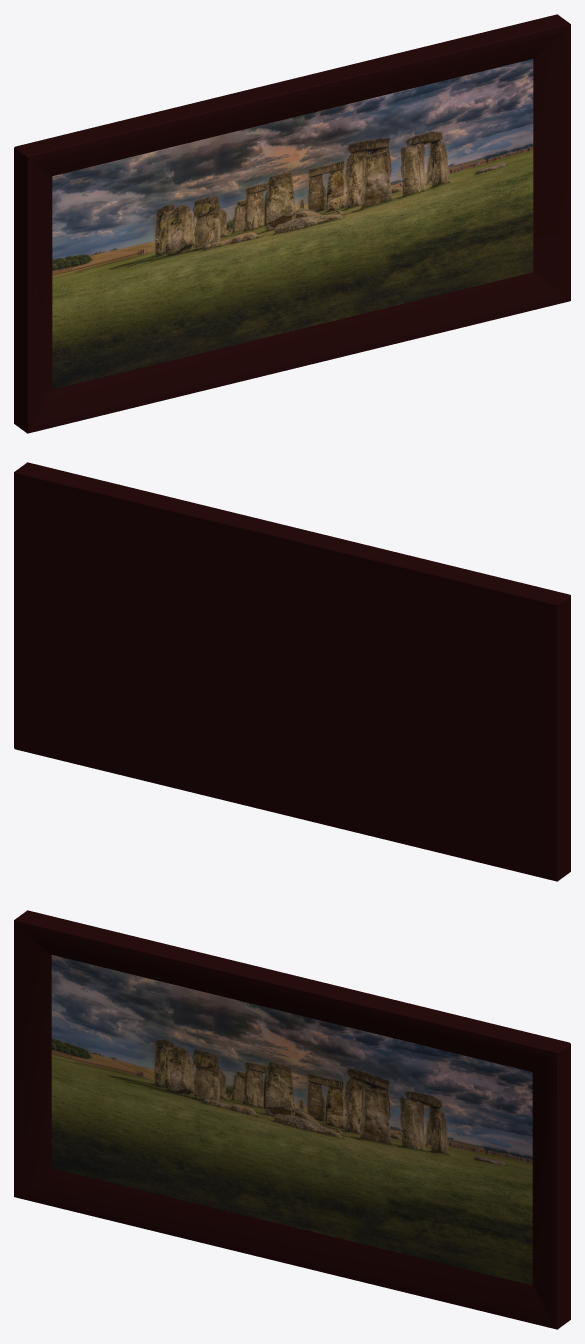
File: aws_PortraitD_01_visual.DAE
3 views of the same model, one above another, from view 1: azimuth 30°, elevation 25°; view 2: azimuth 150°, elevation 25°; view 3: azimuth 330°, elevation 25° (orthographic).
Visible parts, largest first — view 1: aws_PortraitD_01_visual; view 2: aws_PortraitD_01_visual; view 3: aws_PortraitD_01_visual.
Boxes of the visible parts, box(x1,y1,x2,y2) form: aws_PortraitD_01_visual: box(14, 14, 570, 433); aws_PortraitD_01_visual: box(14, 462, 570, 881); aws_PortraitD_01_visual: box(14, 910, 570, 1329).
Bounding box in the file's own units: 101 × 4.39 × 49.04.
Materials: 2 (2 with a texture image).
